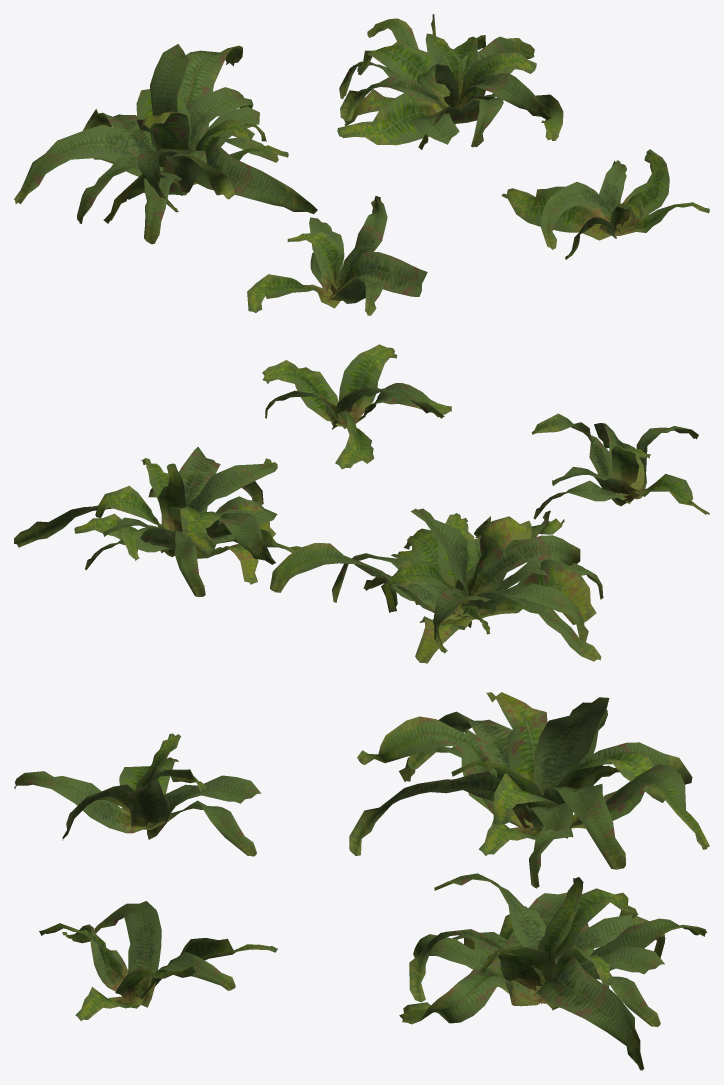
File: fern_02.glb
The picture shows the model from 3 angles, top to bottom: view 1: azimuth 30°, elevation 25°; view 2: azimuth 150°, elevation 25°; view 3: azimuth 270°, elevation 25°; orthographic projection. The views are drawn at different scales.
Parts seen in each view (by area): view 1: fern_02_b, fern_02_c, fern_02_d, fern_02_a; view 2: fern_02_b, fern_02_c, fern_02_d, fern_02_a; view 3: fern_02_b, fern_02_c, fern_02_a, fern_02_d.
Part boxes in pixels (left/top/right/bottom): fern_02_b: left=14, top=44, right=317, bottom=244; fern_02_c: left=337, top=14, right=563, bottom=149; fern_02_d: left=501, top=149, right=709, bottom=259; fern_02_a: left=247, top=196, right=427, bottom=315; fern_02_b: left=270, top=508, right=603, bottom=663; fern_02_c: left=14, top=447, right=301, bottom=596; fern_02_d: left=262, top=344, right=451, bottom=469; fern_02_a: left=531, top=413, right=709, bottom=519; fern_02_b: left=349, top=692, right=709, bottom=888; fern_02_c: left=399, top=873, right=707, bottom=1070; fern_02_a: left=14, top=733, right=261, bottom=856; fern_02_d: left=39, top=901, right=277, bottom=1020.
Bounding box in the file's own units: 1.97 × 0.4277 × 1.72.
Materials: 1 (1 with a texture image).
